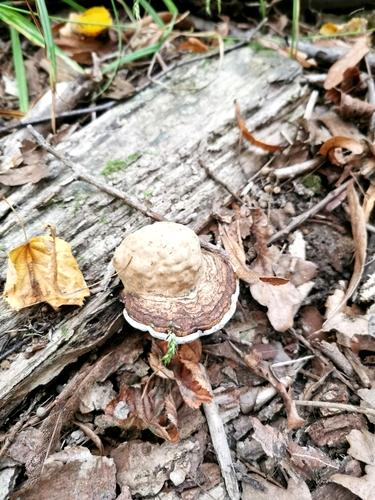Ganoderma - Fruit Body: (112, 217, 245, 347)
